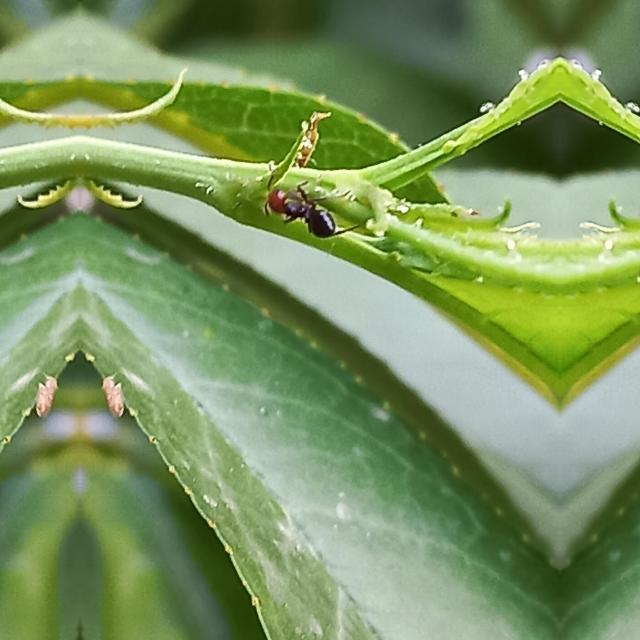Crematogaster: (268, 187, 344, 253)
